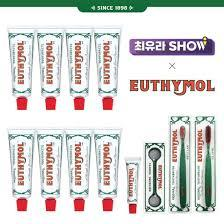toothpaste: (94, 24, 129, 114), (5, 127, 40, 214), (64, 124, 96, 212), (4, 25, 33, 115), (65, 24, 94, 111), (97, 124, 124, 213), (36, 25, 63, 111), (38, 126, 65, 209), (126, 154, 141, 217)
